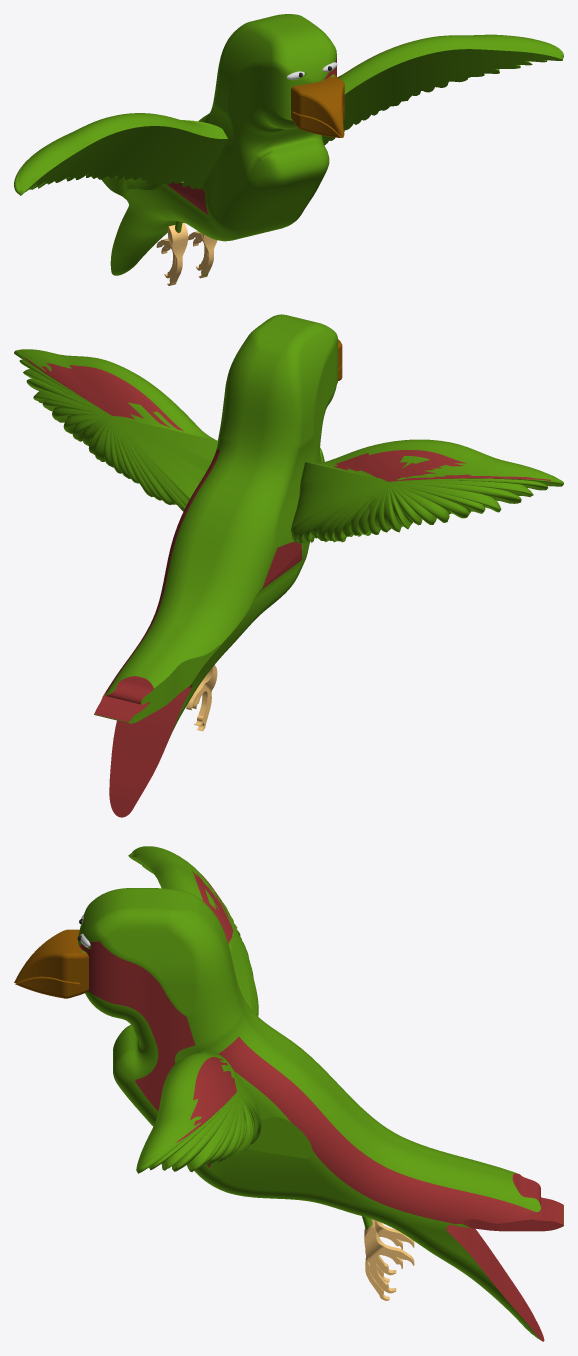
File: karakter 4.gltf
3 renders of one model, top to bottom at view 1: azimuth 30°, elevation 25°; view 2: azimuth 150°, elevation 25°; view 3: azimuth 270°, elevation 25°, orthographic. The views are drawn at different scales.
Parts seen in each view (by area): view 1: Varsayılan, texture-6, texture-5, texture-8; view 2: Varsayılan, texture-5, texture-8; view 3: Varsayılan, texture-7, texture-6, texture-5.
Boxes of the visible parts, left/top/right/bottom form: Varsayılan: left=14, top=14, right=563, bottom=275; texture-6: left=291, top=74, right=344, bottom=137; texture-5: left=156, top=222, right=217, bottom=285; texture-8: left=166, top=182, right=208, bottom=215; Varsayılan: left=14, top=314, right=563, bottom=817; texture-5: left=186, top=665, right=217, bottom=731; texture-8: left=260, top=541, right=302, bottom=590; Varsayılan: left=78, top=846, right=563, bottom=1341; texture-7: left=79, top=941, right=210, bottom=1167; texture-6: left=14, top=929, right=88, bottom=998; texture-5: left=364, top=1219, right=414, bottom=1300.
Bounding box in the file's own units: 0.4757 × 0.308 × 0.3473.
